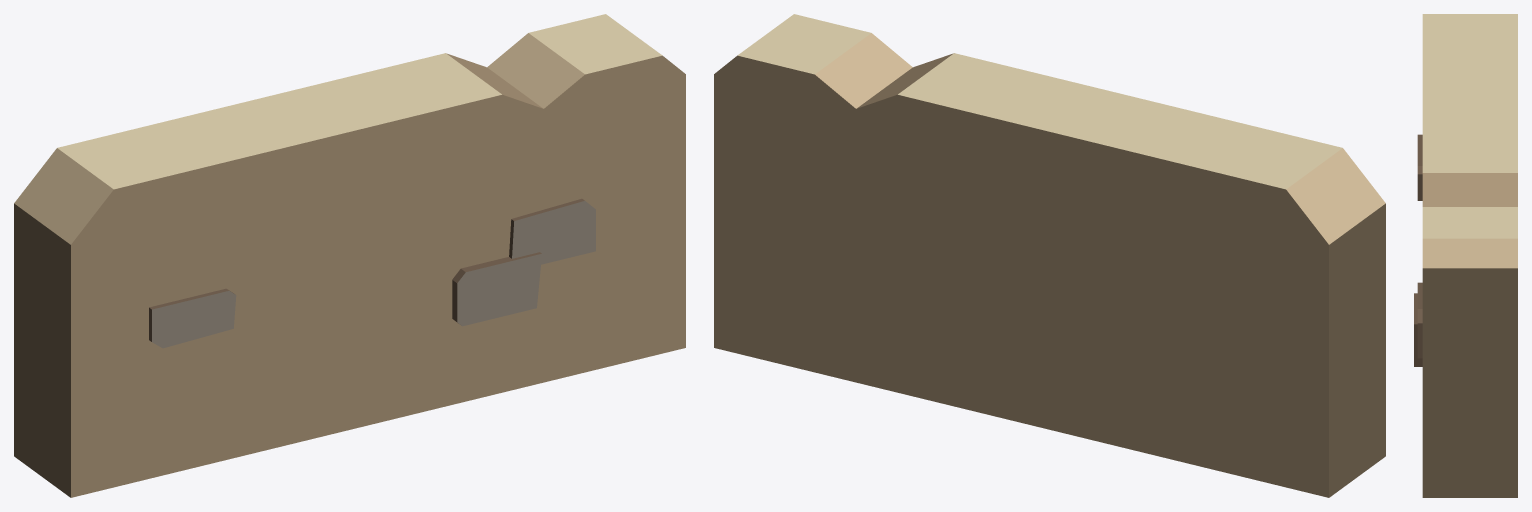
Rendered from TB_D_Bd_Fence_Dirt_C.FBX.
3 renders of one model, left to right at view 1: azimuth 30°, elevation 25°; view 2: azimuth 150°, elevation 25°; view 3: azimuth 270°, elevation 25°, orthographic. The views are drawn at different scales.
Visible parts, largest first — view 1: TB_D_Bd_Fence_Dirt_C; view 2: TB_D_Bd_Fence_Dirt_C; view 3: TB_D_Bd_Fence_Dirt_C.
Boxes of the visible parts, box(x1,y1,x2,y2) form: TB_D_Bd_Fence_Dirt_C: box(14, 14, 685, 497); TB_D_Bd_Fence_Dirt_C: box(714, 14, 1385, 497); TB_D_Bd_Fence_Dirt_C: box(1414, 14, 1517, 497).
Size of the model in its own units: 2.5 by 1.16 by 0.4358.
